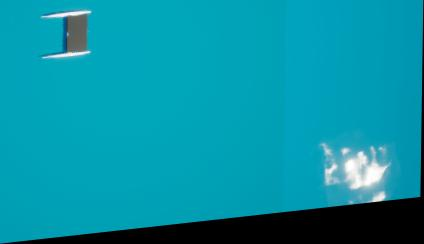boat: (39, 6, 93, 63)
drone: (66, 17, 88, 53)
land_base: (304, 129, 411, 217)
